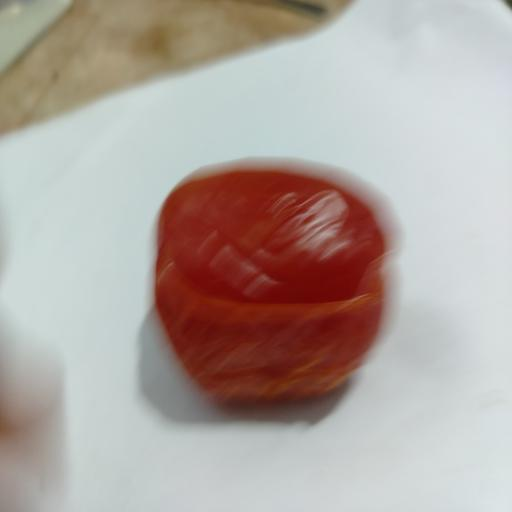spoiled: (154, 160, 392, 401)
